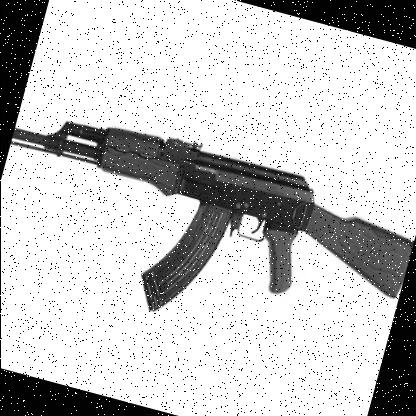rifle: (0, 63, 416, 379)
